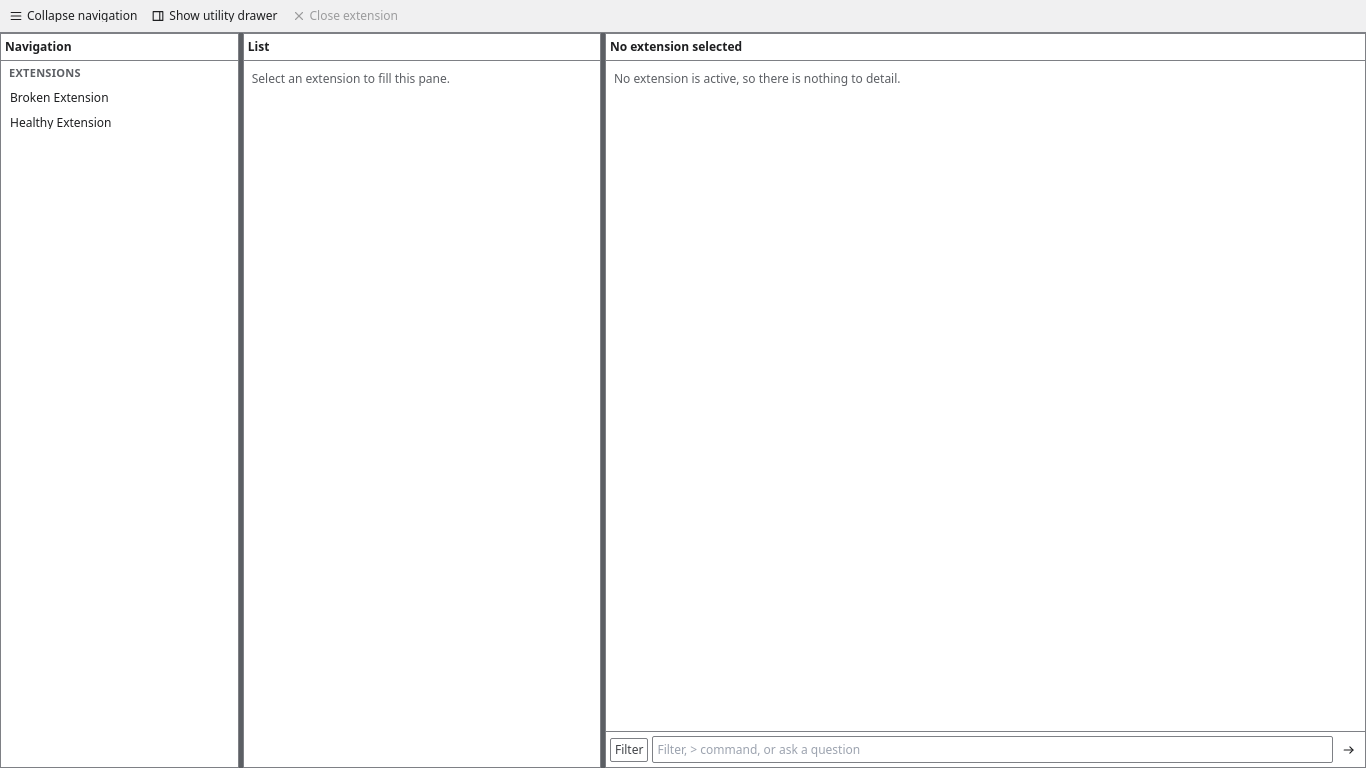
ShellLayout — fault containment › clears a pane error surface when the active extension changes
Click the button "Broken Extension" at (119, 98), box [5, 86, 234, 110]
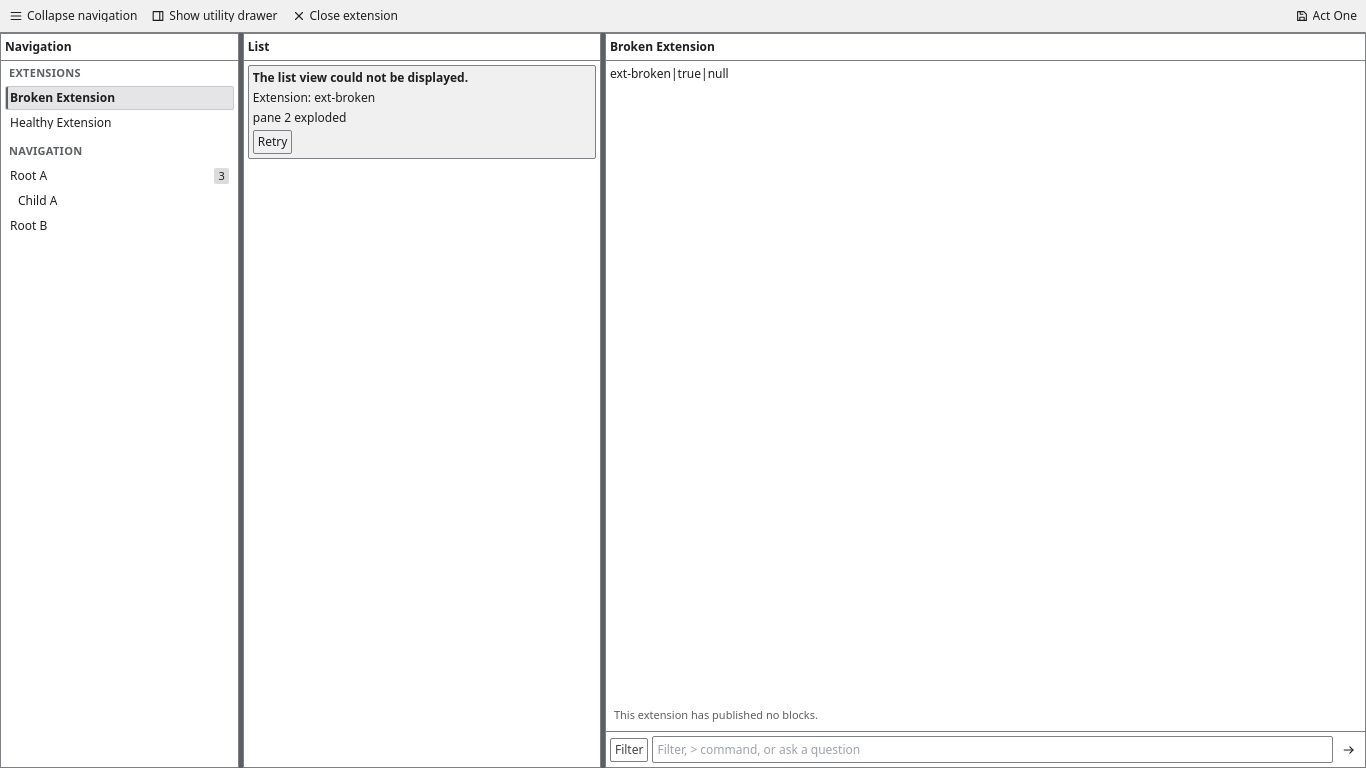
Check: the message is shown, box [248, 65, 596, 159]
Click the button "Healthy Extension" at (119, 122), box [5, 110, 234, 134]
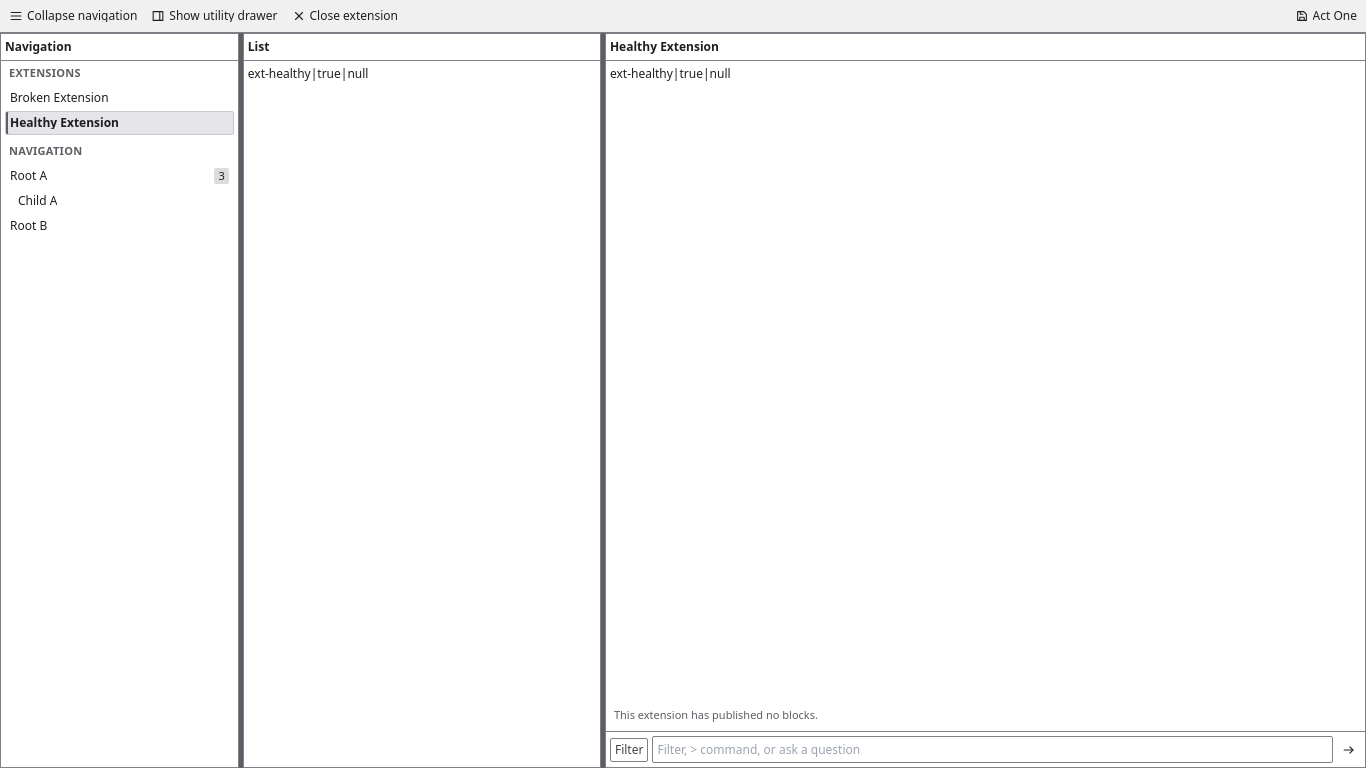
Check: the message is gone
Check: the text with test id "probe-pane2" is shown, box [248, 65, 368, 82]
